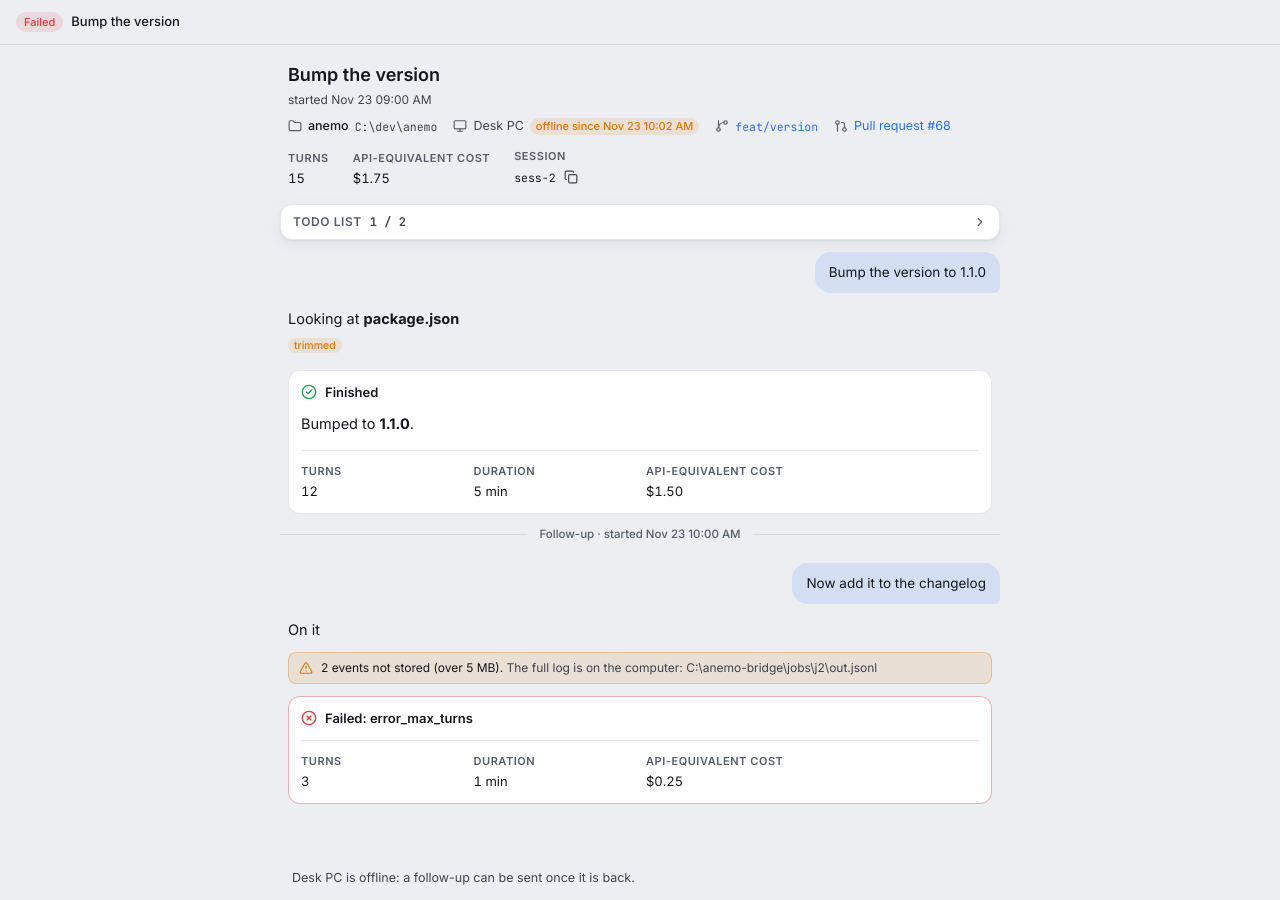
Scenario: a finished thread › says where the full log is for trimmed and dropped events
This screenshot has width=1280, height=900.
Step 1. Click the button "trimmed" → click(315, 345), box left=288, top=338, right=342, bottom=353
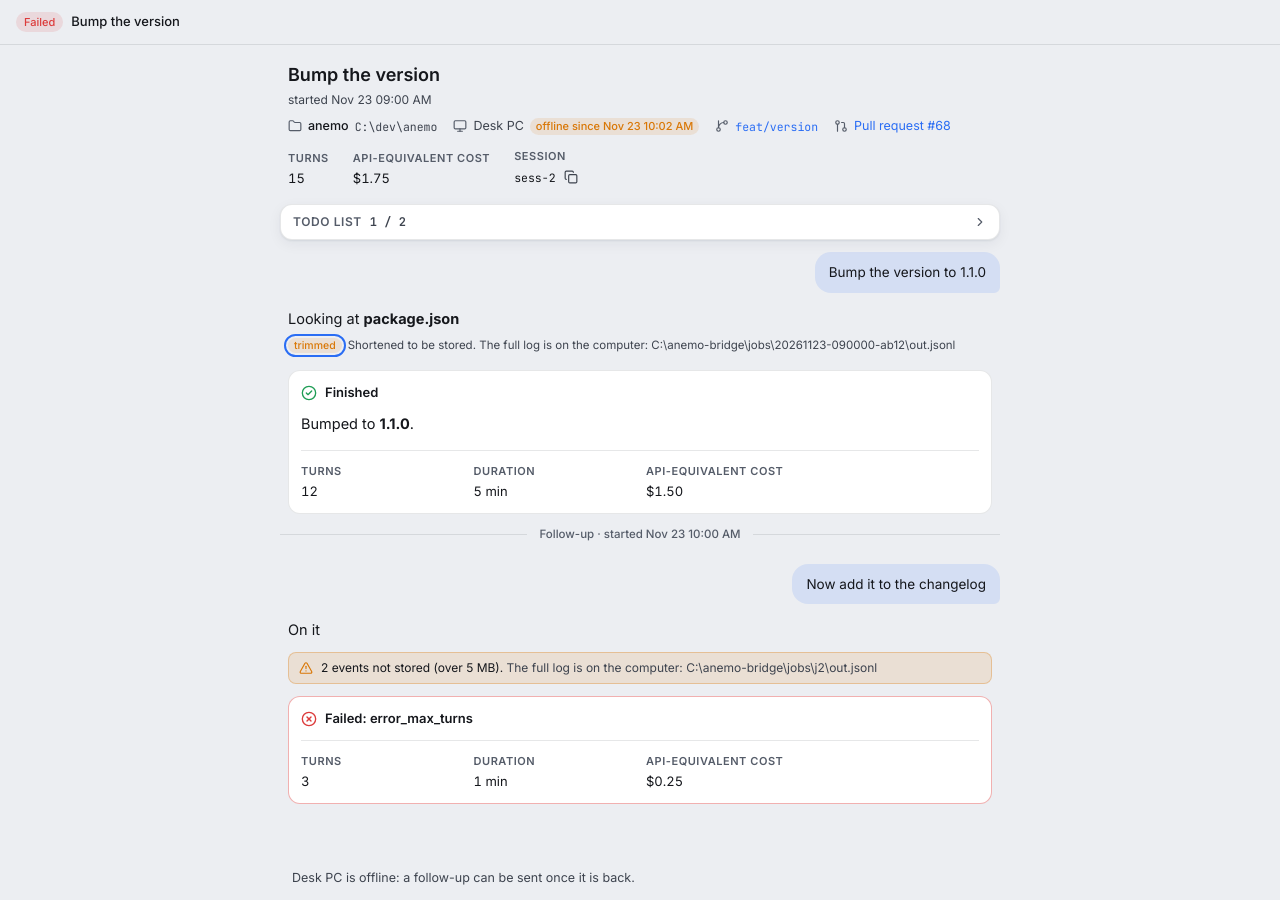
Expected: the text "2 events not stored (over 5 MB)." is shown, left=321, top=660, right=503, bottom=675
Now the text "Shortened to be stored. The full log is on the computer: C:\\anemo-bridge\\jobs\\20261123-090000-ab12\\out.jsonl" is shown, box left=348, top=338, right=955, bottom=352
